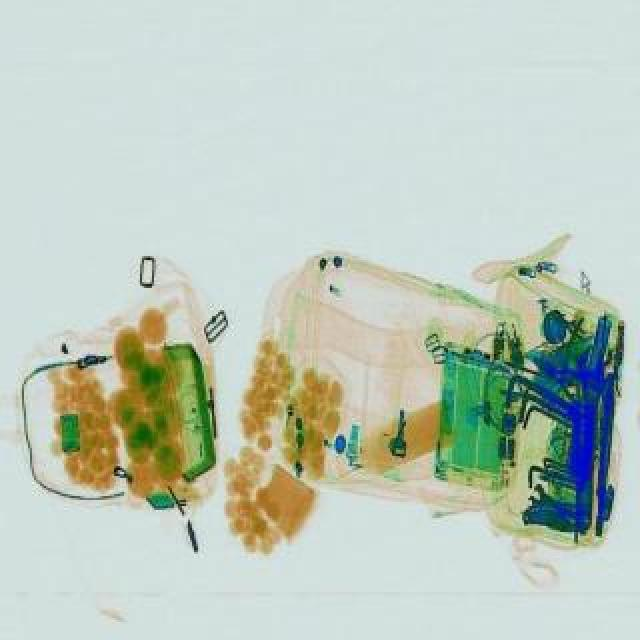scissors: (520, 478, 596, 534)
wrench: (522, 342, 602, 406)
